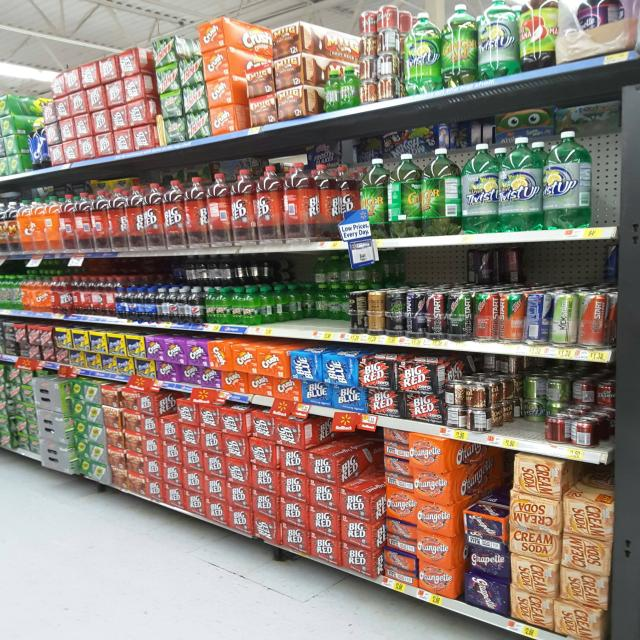empty: (577, 121, 626, 230)
